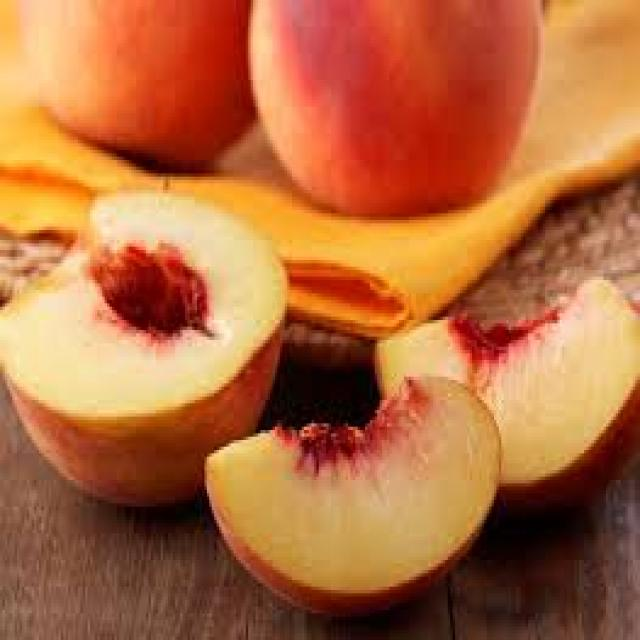organic waste: (0, 186, 285, 506), (199, 363, 499, 607), (372, 273, 638, 507), (246, 0, 540, 210), (12, 0, 256, 167), (88, 244, 206, 334)
